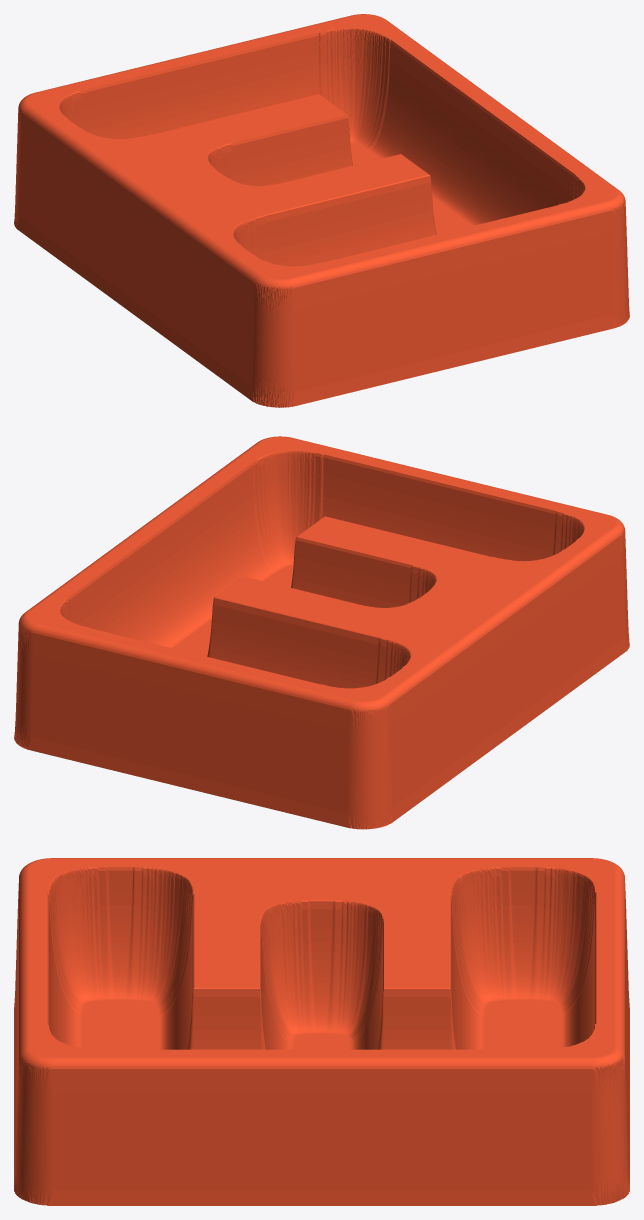
Rendered from mold.glb.
3 renders of one model, top to bottom at view 1: azimuth 30°, elevation 25°; view 2: azimuth 150°, elevation 25°; view 3: azimuth 270°, elevation 25°, orthographic. The views are drawn at different scales.
Visible parts, largest first — view 1: geometry_0; view 2: geometry_0; view 3: geometry_0.
Part boxes in pixels (box(x1,y1,x2,y2)): geometry_0: box(14, 14, 629, 407); geometry_0: box(14, 436, 629, 829); geometry_0: box(14, 858, 629, 1205).
Bounding box in the file's own units: 0.1165 × 0.0365 × 0.1435.
